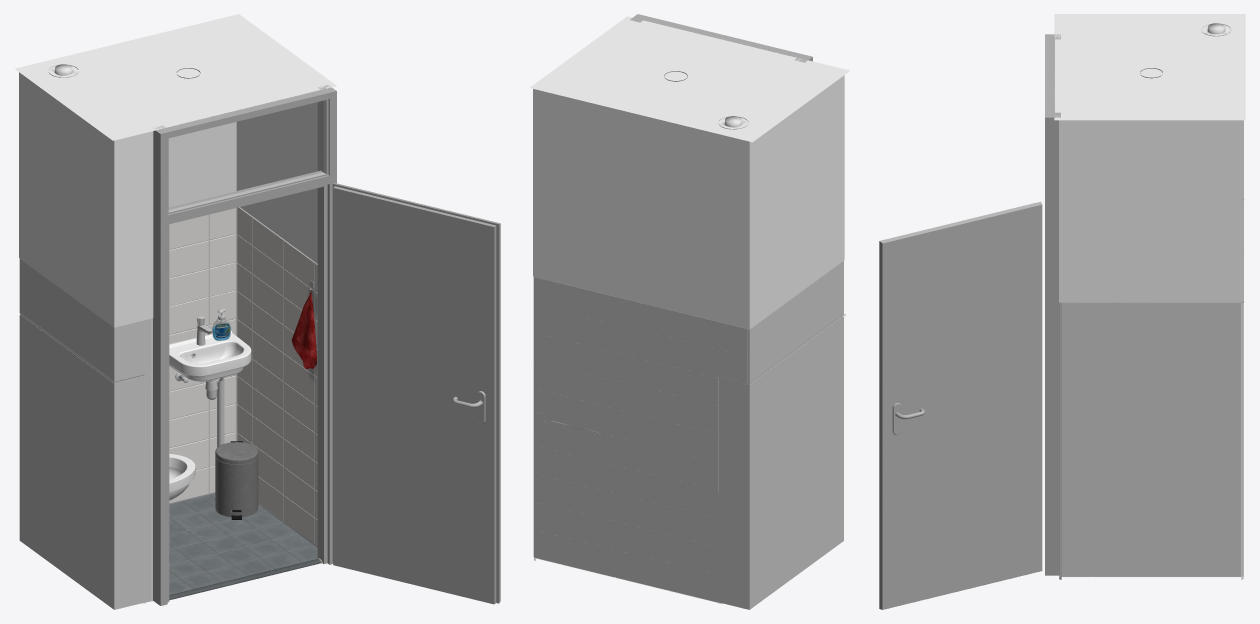
File: a_bathroom..glb
3 renders of one model, left to right at view 1: azimuth 30°, elevation 25°; view 2: azimuth 150°, elevation 25°; view 3: azimuth 270°, elevation 25°, orthographic. The views are drawn at different scales.
Parts seen in each view (by area): view 1: toilet_walls, pasted__pCube8, roof, pasted__door_frame, wall_tiles3, wall_tiles4, pasted__window_glass2, toilet_floortiles, sink, bin, gelstrip8, polySurface3 (+4 smaller); view 2: toilet_walls, roof, pasted__door_frame; view 3: toilet_walls, pasted__pCube8, roof, pasted__door_frame, gelstrip8.
Part boxes in pixels (x1,y1,x2,y2): toilet_walls: (19,72,317,609); pasted__pCube8: (332,183,500,604); roof: (15,14,336,140); pasted__door_frame: (153,85,336,605); wall_tiles3: (237,207,317,545); wall_tiles4: (169,208,235,503); pasted__window_glass2: (169,102,321,208); toilet_floortiles: (169,493,317,594); sink: (169,329,251,381); bin: (215,456,258,517); gelstrip8: (17,208,237,603); polySurface3: (291,291,316,368); toilet_walls: (533,75,844,609); roof: (530,16,849,142); pasted__door_frame: (630,14,812,62); toilet_walls: (1059,120,1243,576); pasted__pCube8: (879,201,1042,609); roof: (1054,14,1245,120); pasted__door_frame: (1045,34,1060,575); gelstrip8: (1059,199,1244,579).
Bounding box in the file's own units: 1.67 × 2.54 × 1.81.
Materials: 18 (12 with a texture image).
